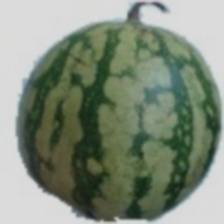watermelon: (37, 0, 201, 197)
